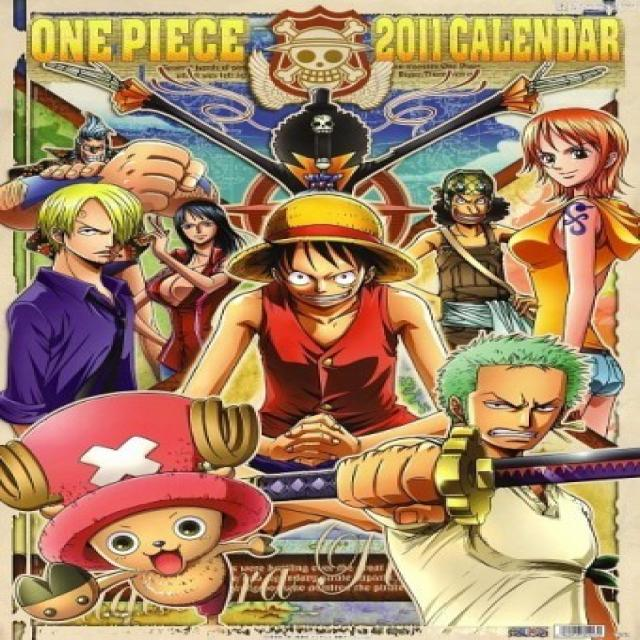Blook: (225, 70, 427, 190)
Chyopa: (10, 381, 283, 636)
Franky: (27, 107, 174, 187)
Luffy: (216, 188, 424, 315)
Nami: (513, 104, 631, 204)
NicoRobin: (162, 181, 256, 258)
Sangdi: (30, 176, 170, 272)
Usopp: (417, 164, 519, 242)
Zoro: (409, 332, 617, 456)
